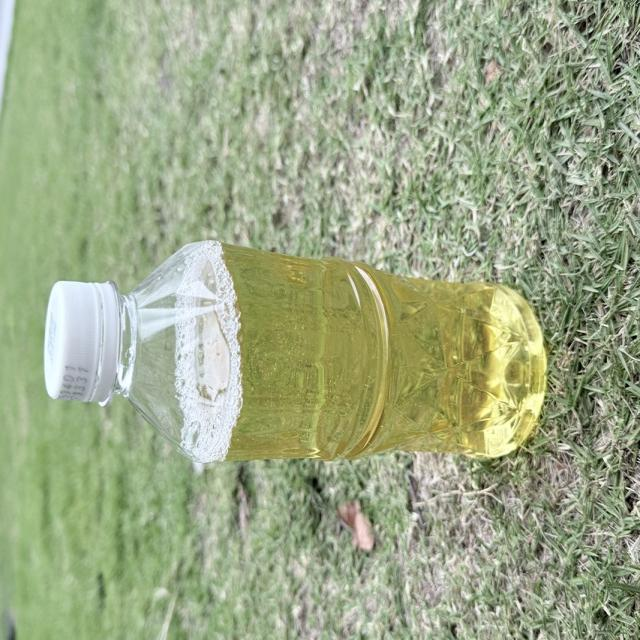high: (44, 240, 545, 463)
